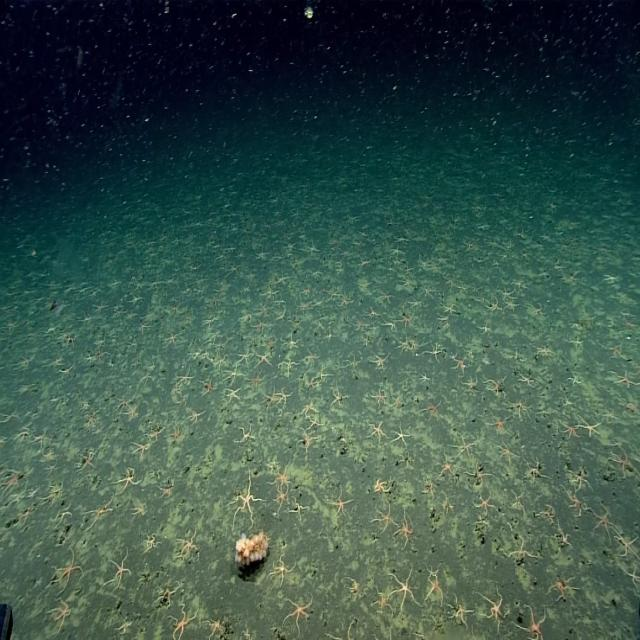brittle-stars: (217, 465, 270, 536), (270, 585, 320, 640), (472, 582, 516, 639), (387, 558, 424, 620), (44, 540, 84, 596), (97, 542, 133, 597), (159, 599, 206, 640), (170, 522, 208, 571), (495, 534, 545, 570), (81, 488, 118, 536), (542, 566, 580, 612), (604, 438, 640, 485), (510, 601, 553, 640), (324, 474, 356, 523), (262, 548, 298, 591), (366, 500, 402, 541), (45, 594, 76, 640), (145, 575, 182, 613), (586, 507, 623, 545), (391, 505, 420, 549), (451, 427, 482, 468), (468, 487, 503, 523), (562, 484, 597, 520), (575, 408, 611, 443), (519, 454, 553, 490), (611, 526, 640, 568), (1, 504, 36, 538), (110, 462, 145, 496), (446, 597, 476, 636), (323, 611, 362, 640), (459, 461, 496, 491), (288, 427, 324, 457), (421, 574, 450, 610), (368, 582, 394, 622), (420, 390, 447, 428), (267, 452, 295, 488), (564, 463, 596, 494), (364, 416, 393, 450), (482, 409, 516, 438), (616, 561, 640, 600), (77, 405, 104, 439), (268, 482, 293, 518), (507, 483, 530, 522), (607, 366, 640, 393), (326, 382, 352, 416), (434, 447, 459, 482), (230, 418, 258, 449), (68, 446, 100, 473), (495, 438, 521, 471), (81, 346, 114, 372), (0, 464, 23, 501), (142, 520, 162, 562), (218, 358, 248, 386), (51, 499, 74, 535), (152, 473, 180, 502), (417, 337, 448, 363), (598, 338, 633, 361), (336, 349, 365, 376), (40, 479, 66, 509), (366, 383, 392, 413), (507, 394, 537, 420), (288, 495, 310, 530), (390, 419, 414, 451), (552, 522, 576, 554), (274, 352, 301, 380), (201, 611, 227, 640), (158, 294, 187, 320), (417, 472, 439, 506), (124, 440, 156, 463), (482, 372, 508, 400), (8, 349, 36, 375), (300, 341, 325, 370), (366, 473, 395, 498), (367, 346, 391, 376), (557, 368, 588, 391), (436, 487, 458, 519), (168, 360, 198, 383), (478, 292, 504, 318), (555, 419, 582, 444), (0, 399, 21, 431), (340, 572, 364, 600), (534, 502, 562, 526), (161, 324, 182, 356), (112, 613, 137, 639), (262, 379, 280, 415), (378, 311, 402, 338), (459, 370, 482, 398), (44, 364, 76, 384), (447, 353, 472, 378), (120, 400, 144, 426), (199, 369, 219, 400), (186, 402, 208, 429), (245, 367, 267, 394), (13, 420, 34, 448), (392, 307, 416, 331), (74, 306, 96, 332), (275, 384, 294, 414), (23, 480, 45, 505), (321, 281, 342, 307), (517, 368, 544, 388), (7, 486, 29, 510), (29, 425, 49, 451), (61, 325, 81, 351), (386, 390, 405, 417), (129, 498, 151, 521), (495, 280, 518, 302), (135, 368, 157, 391), (202, 326, 225, 348), (302, 412, 328, 431), (254, 348, 275, 371), (146, 418, 166, 442), (224, 382, 244, 406), (616, 397, 640, 417), (91, 294, 111, 318), (529, 298, 547, 324), (564, 331, 588, 350), (248, 316, 272, 335), (348, 315, 372, 334), (133, 316, 157, 335), (167, 421, 185, 446), (297, 398, 317, 420), (475, 318, 494, 341), (414, 367, 435, 387), (534, 339, 556, 358), (316, 362, 334, 385), (423, 559, 443, 579), (212, 349, 230, 371), (302, 374, 320, 396), (124, 288, 146, 306), (235, 346, 254, 366), (91, 332, 111, 351), (357, 328, 375, 349), (396, 334, 411, 358), (440, 296, 460, 314), (502, 295, 520, 315), (44, 461, 61, 481), (40, 446, 57, 465), (434, 313, 453, 330), (408, 334, 420, 358), (114, 392, 128, 412), (186, 345, 203, 361), (168, 379, 182, 397), (200, 345, 212, 366)
